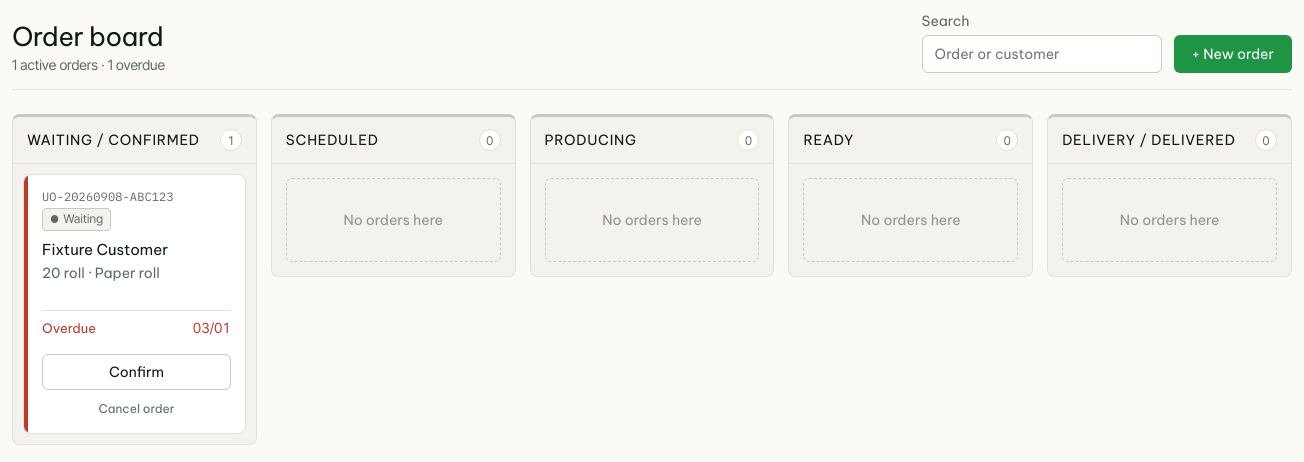
Test: OrderBoard › maps waiting orders, marks overdue, and advances explicitly
The width and height of the screenshot is (1304, 462).
Expected: the heading "Fixture Customer" is shown, [42,240,168,259]
Expected: the text "Overdue" is shown, [42,320,96,336]
Click the button "Confirm": (136, 372) [42,354,231,390]
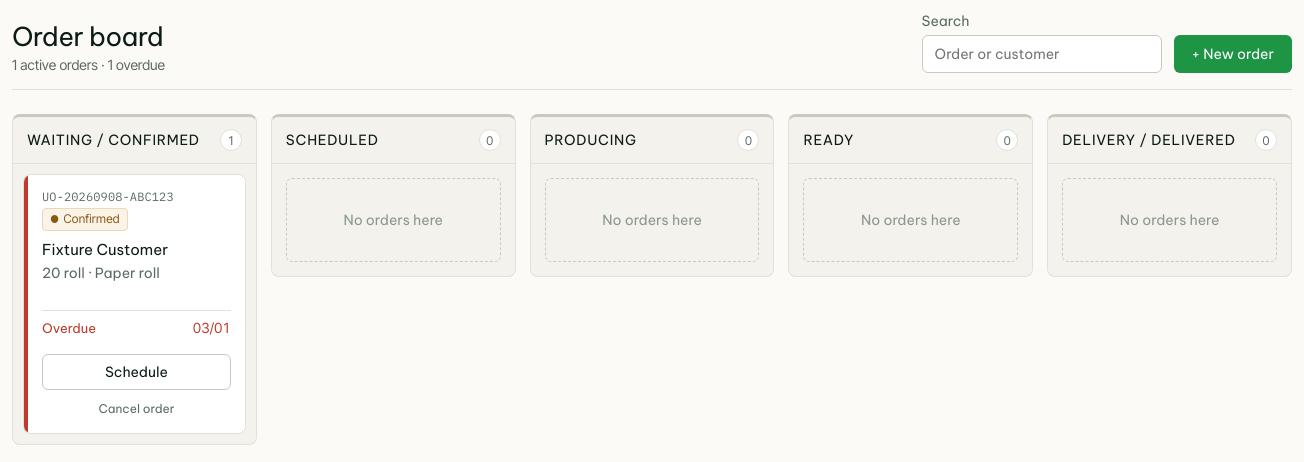
Now the text "Confirmed" is shown, box [63,211,120,228]
